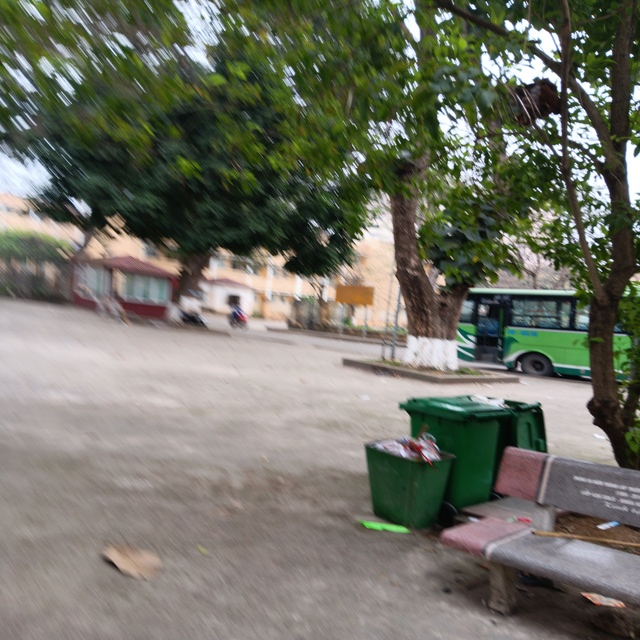thungrac: (402, 378, 499, 515), (357, 428, 458, 536), (487, 386, 559, 506)
